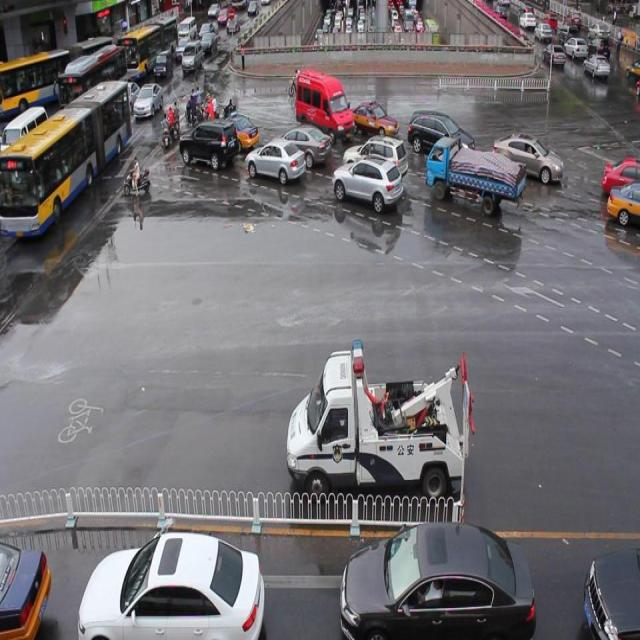bus: (285, 338, 464, 498), (426, 135, 523, 213)
car: (490, 129, 562, 186), (406, 107, 474, 164), (332, 157, 402, 212), (342, 132, 408, 184), (266, 123, 332, 169), (244, 137, 305, 183), (346, 99, 398, 140), (604, 179, 640, 230), (213, 114, 259, 152), (601, 157, 640, 200)
truck: (294, 69, 353, 138), (179, 118, 237, 168)
